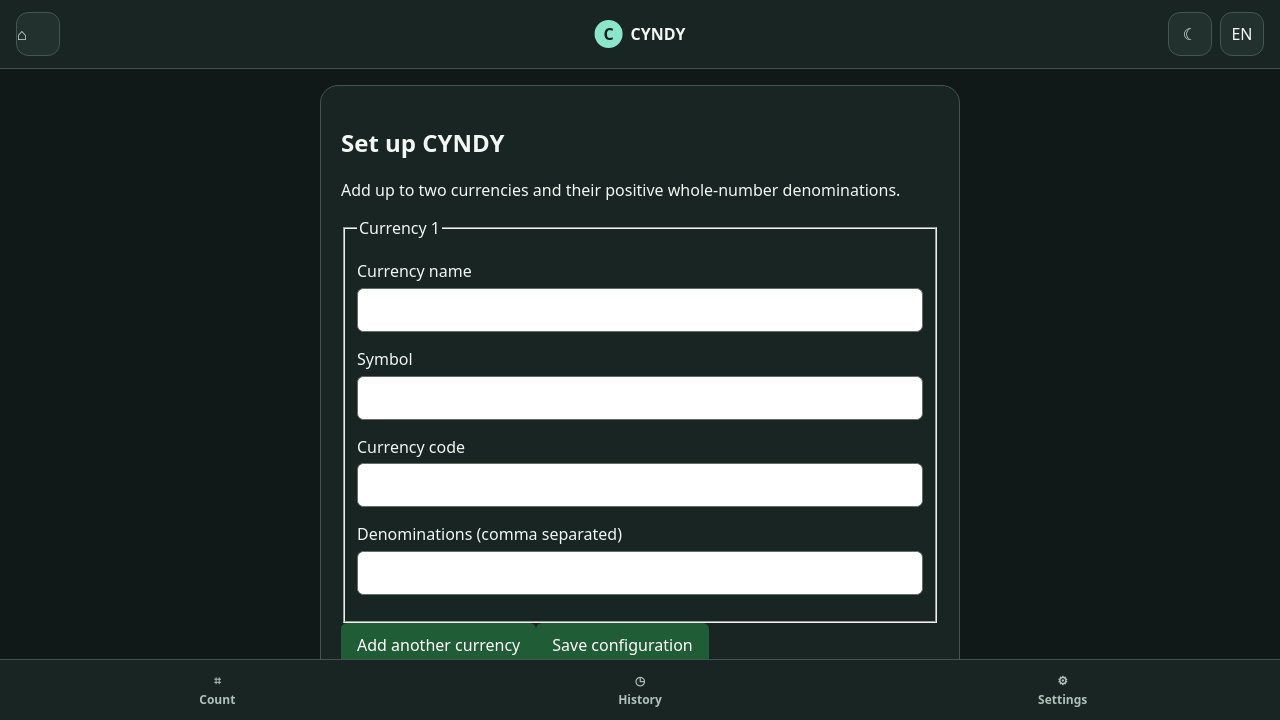
Test: configuration routes › retains invalid input and identifies the invalid field
Expected: the heading "Set up CYNDY" is shown, x1=341 y1=126 x2=504 y2=159
In the field labelled "Currency name": x=640, y=310 x1=357 y1=288 x2=923 y2=332, type "US dollar"
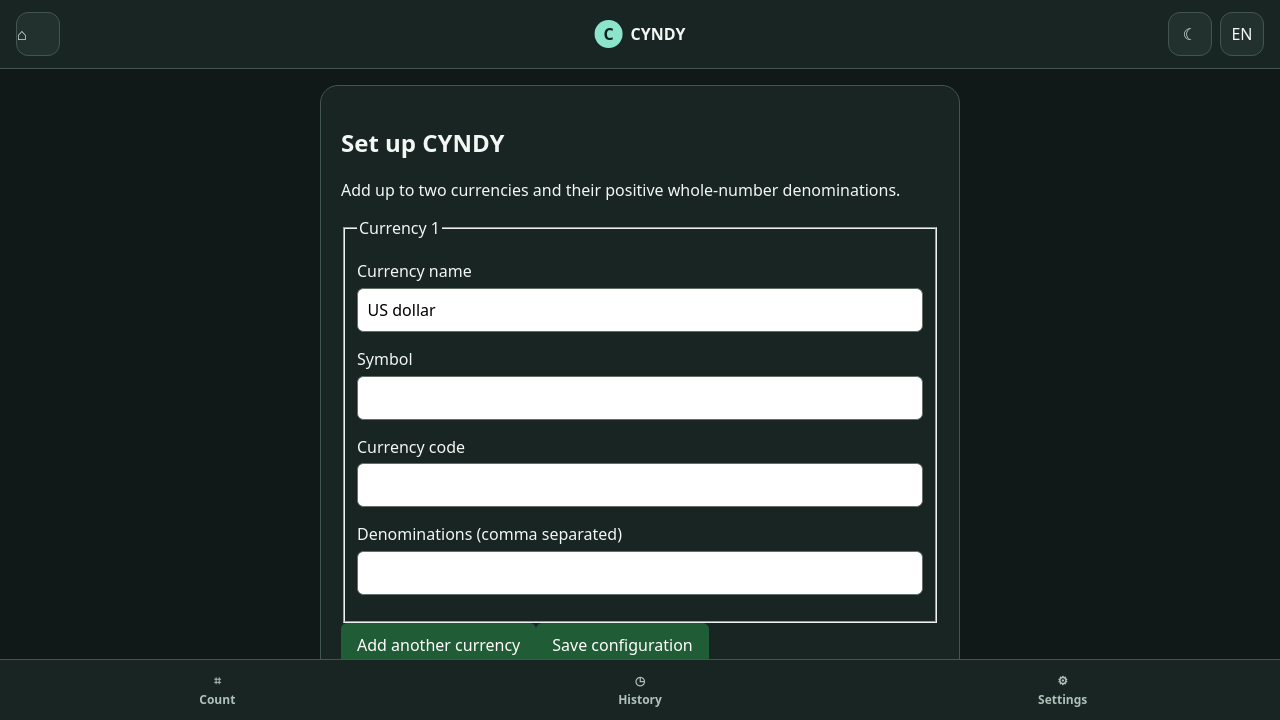
In the field labelled "Symbol": x=640, y=398 x1=357 y1=376 x2=923 y2=420, type "$"
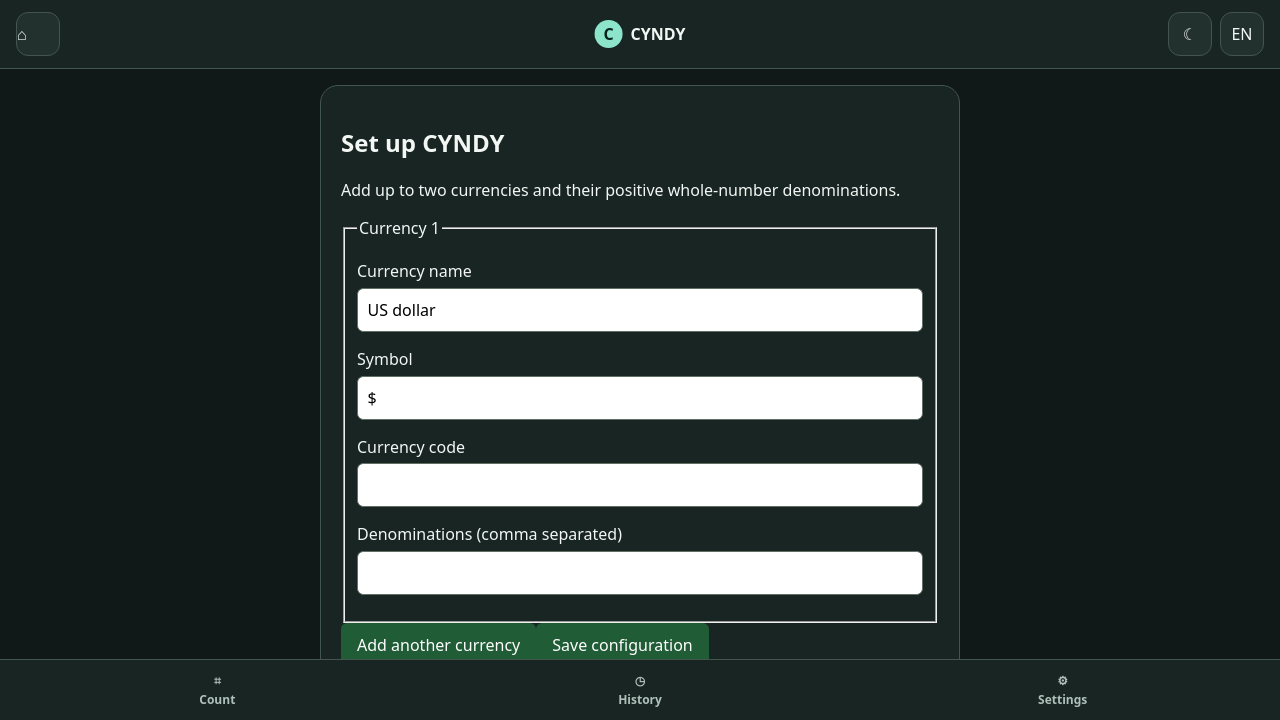
In the field labelled "Currency code": x=640, y=485 x1=357 y1=463 x2=923 y2=507, type "USD"
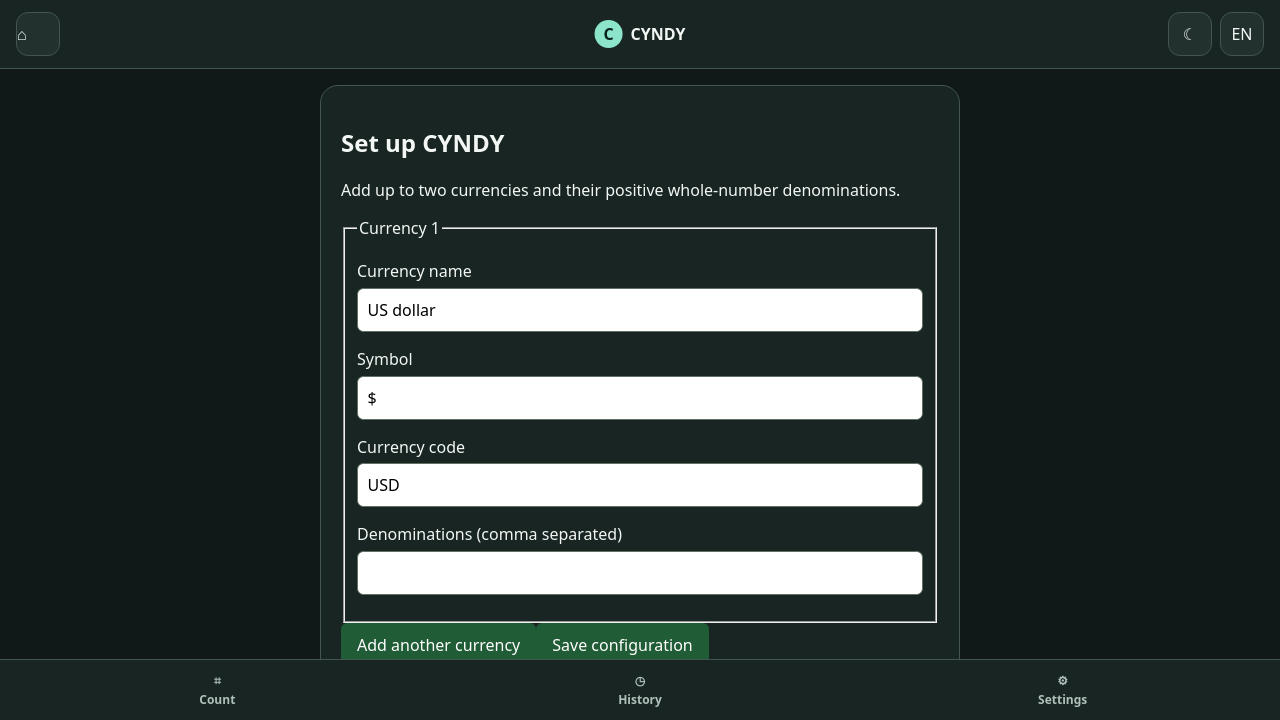
In the field labelled "Denominations (comma separated)": x=640, y=573 x1=357 y1=551 x2=923 y2=595, type "5, 1.5"
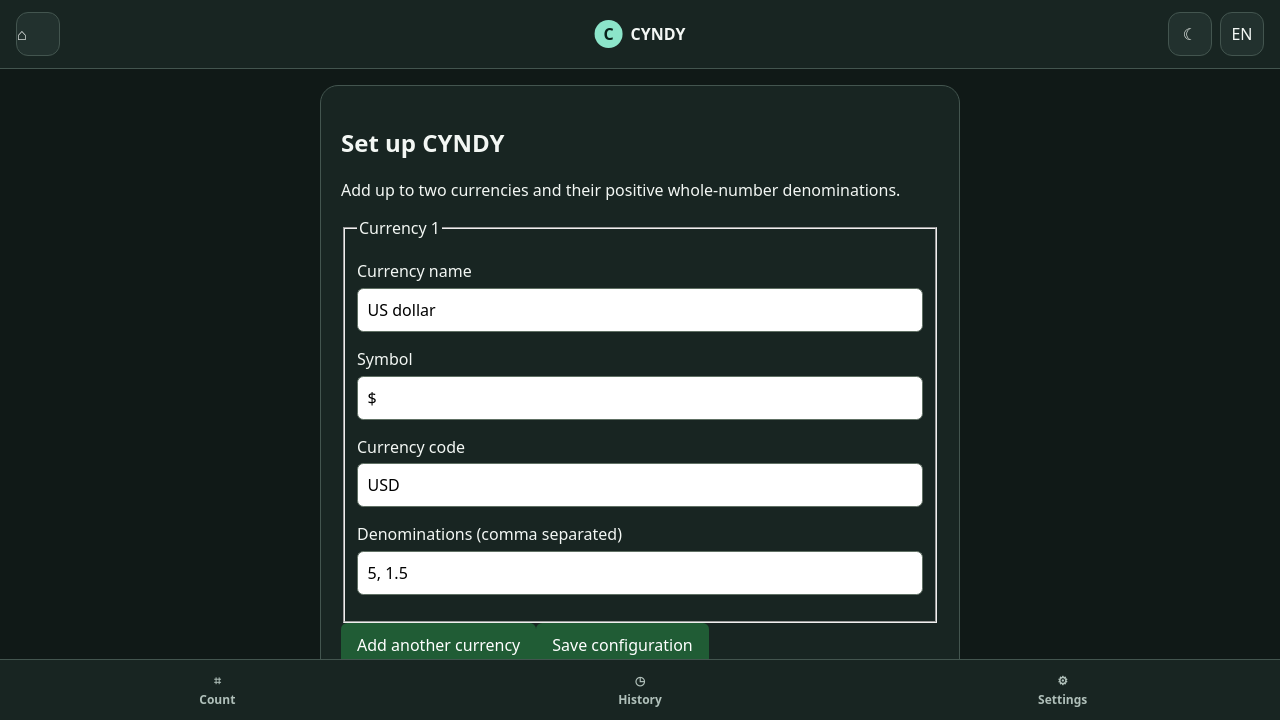
Click the button "Save configuration": x=622, y=645 x1=536 y1=623 x2=709 y2=667
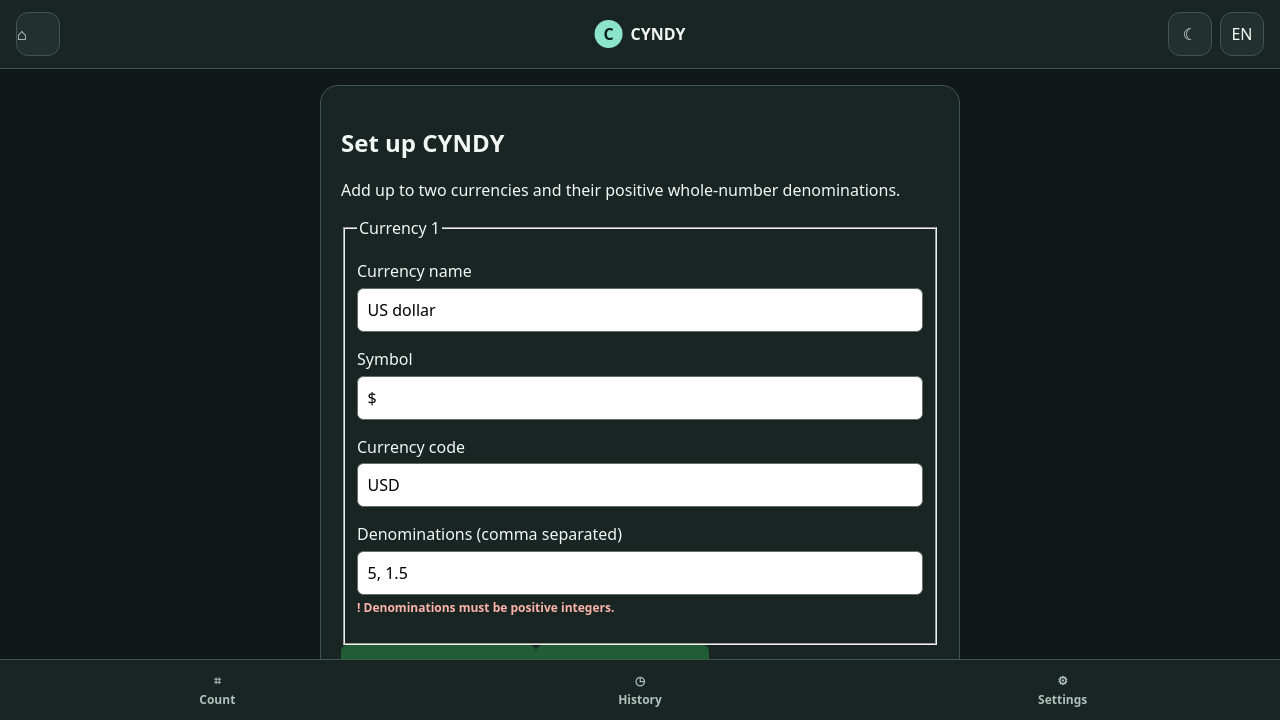
Now the text "Denominations must be positive integers." is shown, box x1=364 y1=599 x2=614 y2=616
